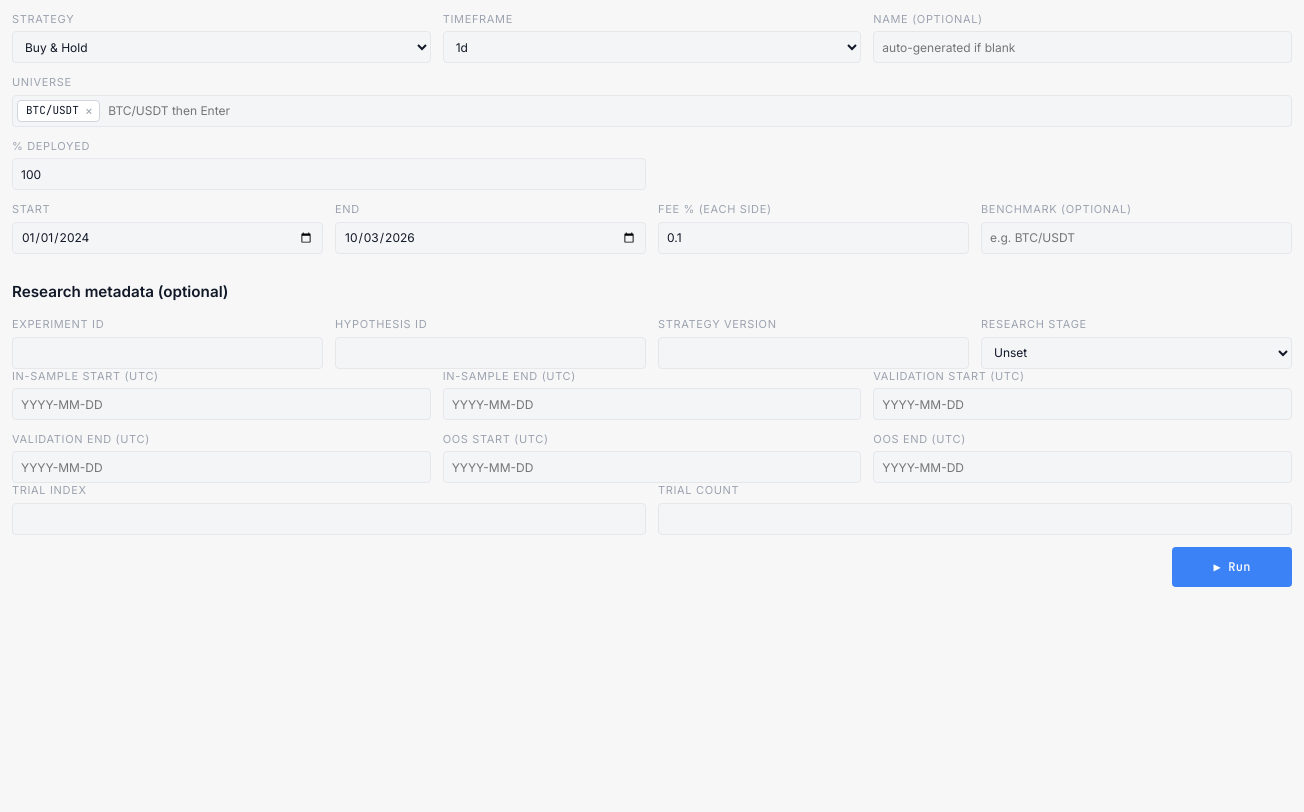
Test: StrategyForm › submitting with empty universe shows a client error
Click the button named "Remove BTC/USDT" at {"x": 89, "y": 111}, box [83, 104, 95, 118]
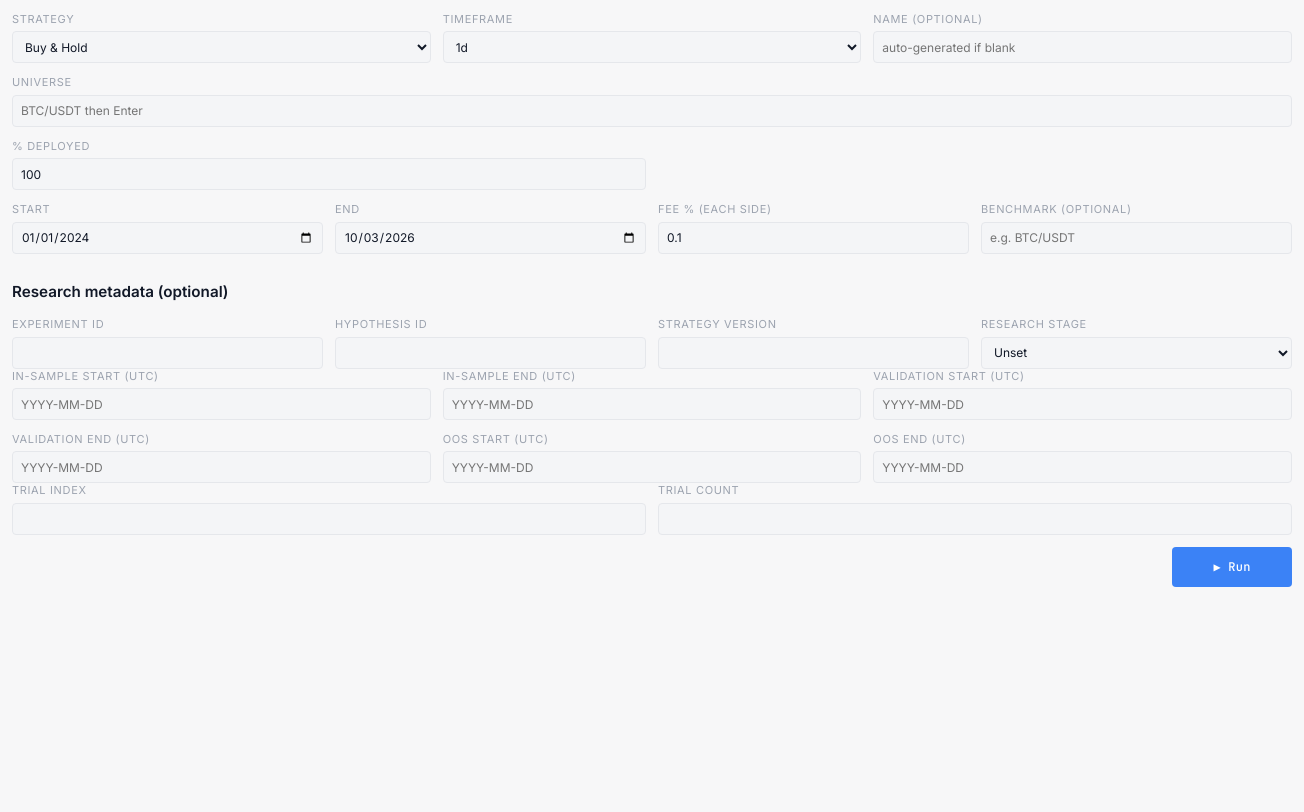
Click the button "▶ Run" at {"x": 1232, "y": 567}, box [1172, 547, 1292, 587]
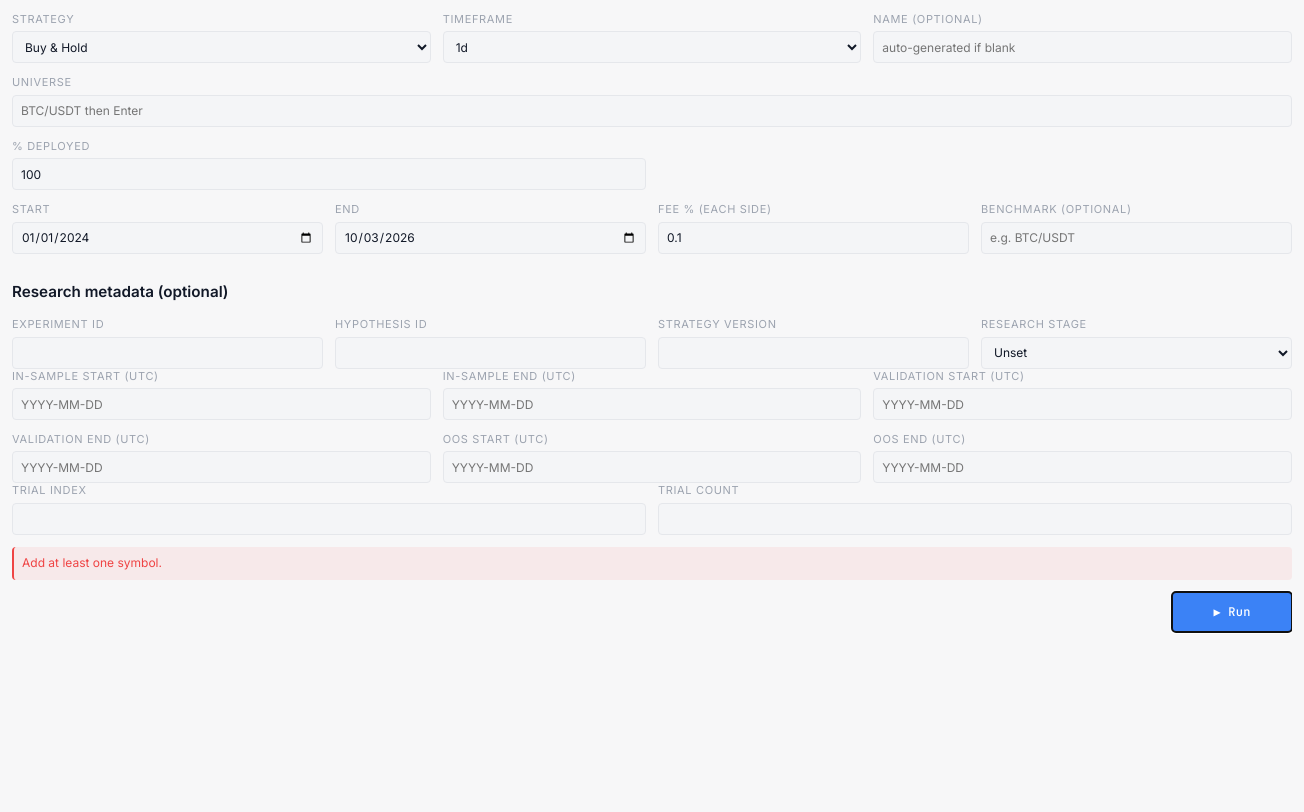
Check: the text "Add at least one symbol." is shown, box [12, 547, 1292, 580]
